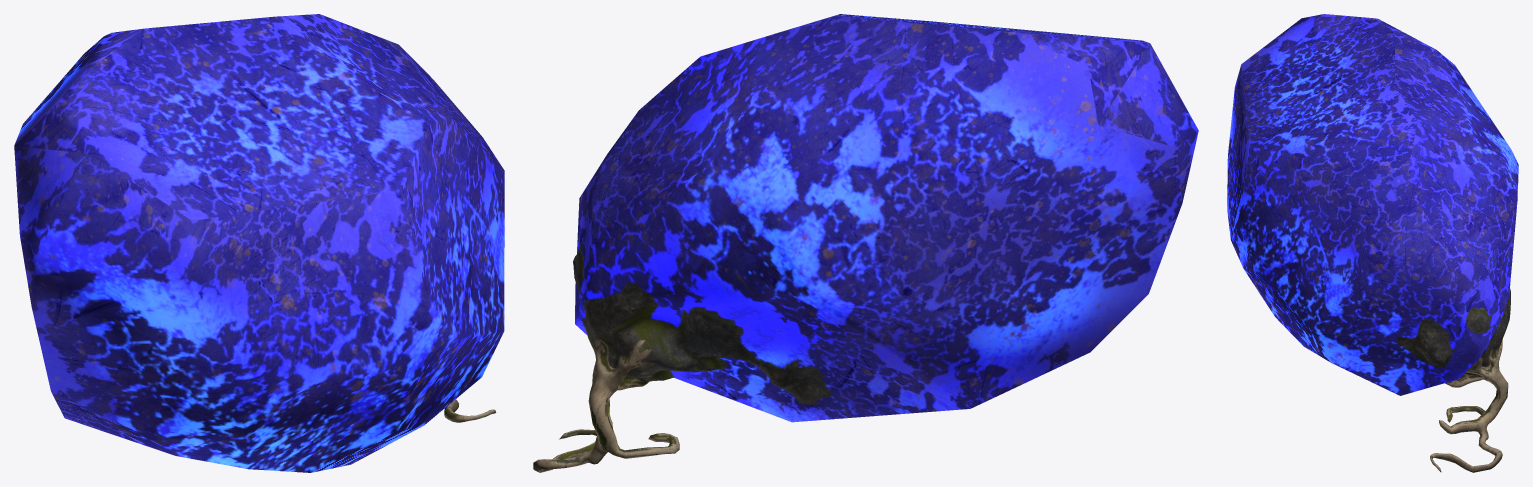
File: crystalAsteroidMid.fbx
The picture shows the model from 3 angles, left to right: view 1: azimuth 30°, elevation 25°; view 2: azimuth 150°, elevation 25°; view 3: azimuth 270°, elevation 25°; orthographic projection. The views are drawn at different scales.
Visible parts, largest first — view 1: lod2; view 2: lod2; view 3: lod2.
Boxes of the visible parts, box(x1,y1,x2,y2) form: lod2: box(14, 14, 504, 472); lod2: box(533, 14, 1198, 472); lod2: box(1227, 14, 1518, 472).
Size of the model in its own units: 54.81 by 47.49 by 38.57.
